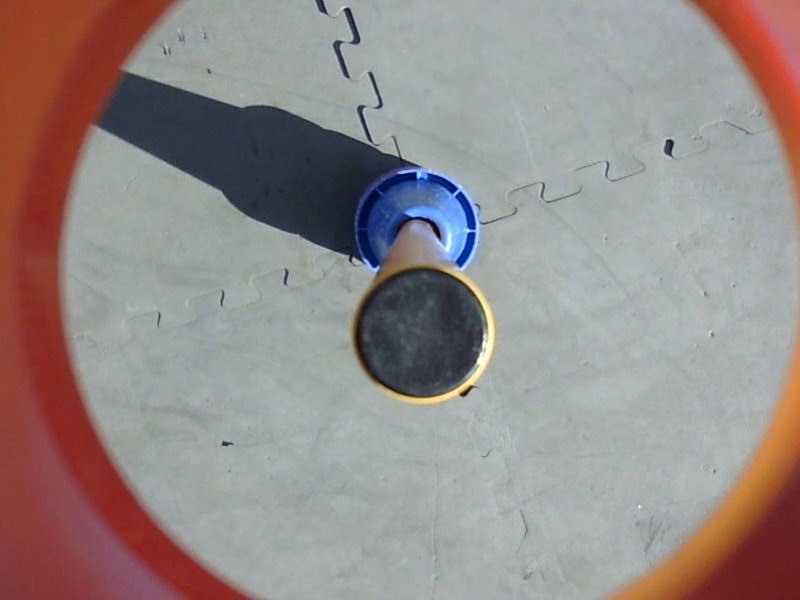tip: (345, 262, 502, 409)
